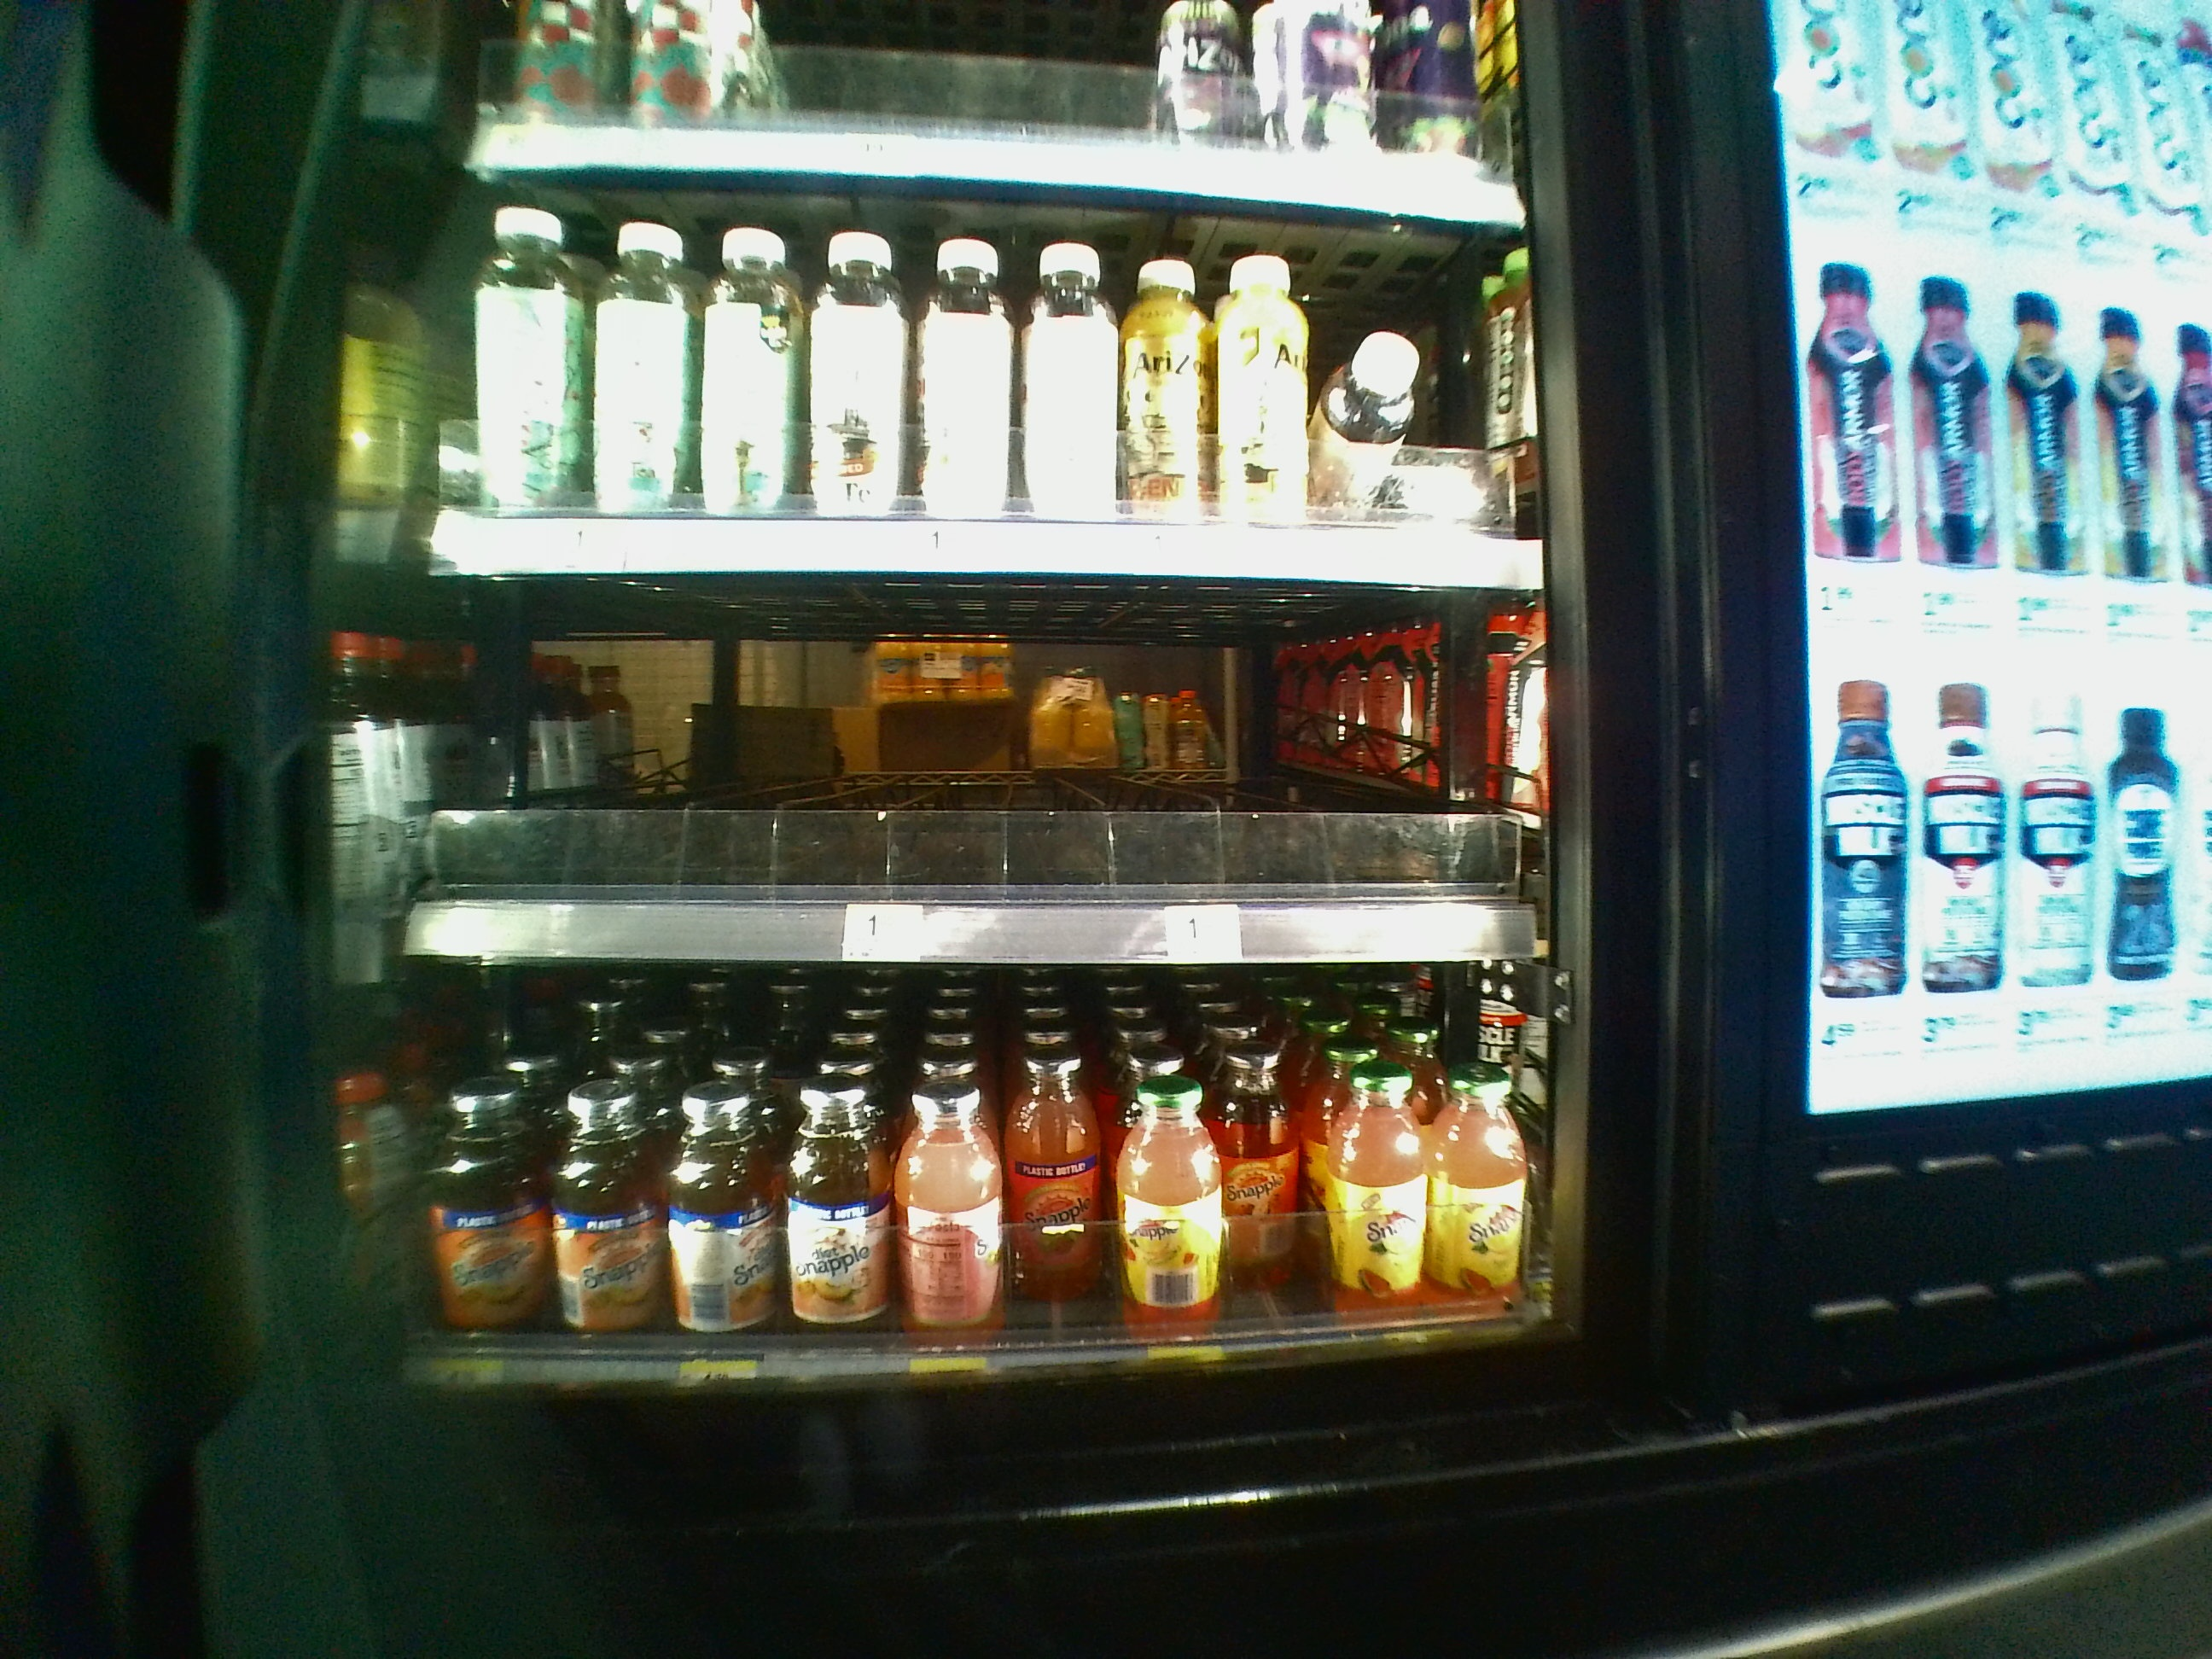shelf: (406, 972, 1545, 1410), (404, 582, 1536, 958)
